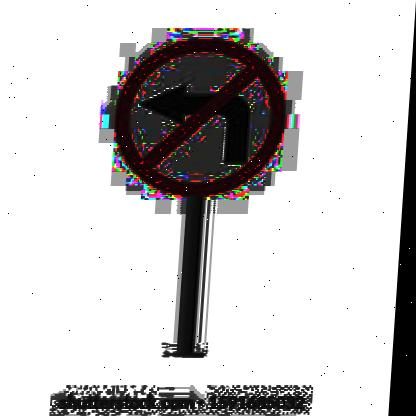No left turn: (108, 36, 295, 197)
